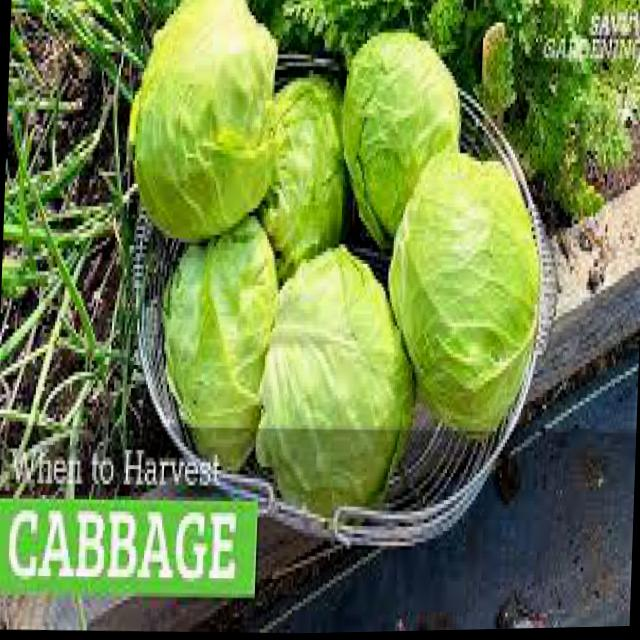Cabbage: (382, 148, 545, 440), (256, 241, 420, 530), (125, 0, 284, 244), (158, 215, 278, 472), (338, 30, 466, 252), (264, 79, 349, 285)
